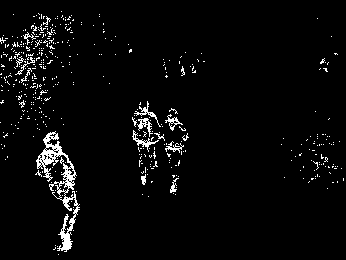person: (36, 131, 80, 252), (129, 99, 162, 186), (160, 108, 188, 196)
